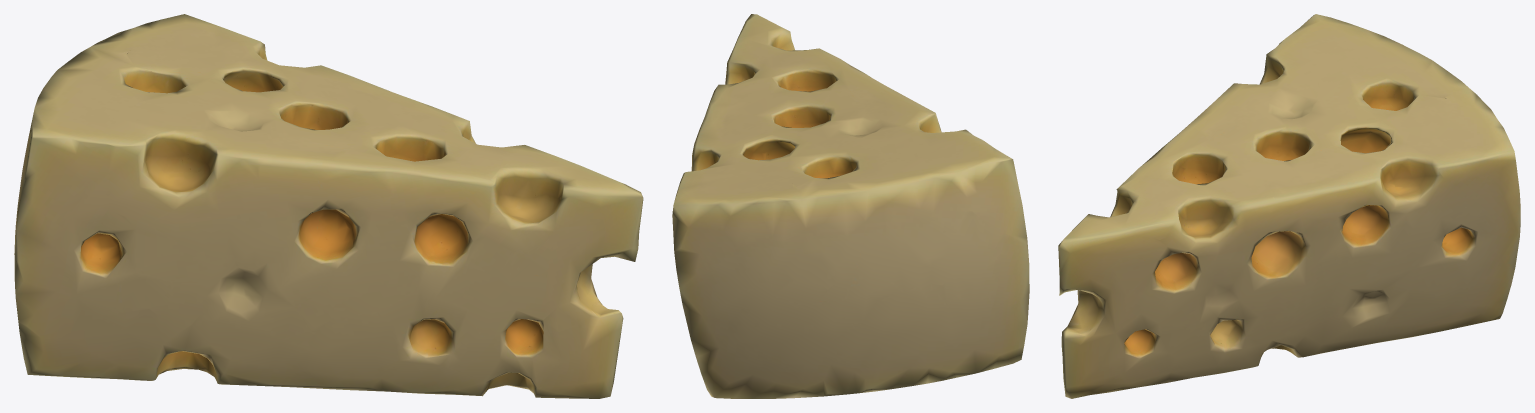
Rendered from tripo_convert_3d8f8f78-e6a6-4df1-aa93-ef33baefe525.fbx.
3 views of the same model, side by side, from view 1: azimuth 30°, elevation 25°; view 2: azimuth 150°, elevation 25°; view 3: azimuth 270°, elevation 25° (orthographic). The views are drawn at different scales.
Visible parts, largest first — view 1: tripo_node_3d8f8f78; view 2: tripo_node_3d8f8f78; view 3: tripo_node_3d8f8f78.
Boxes of the visible parts, left/top/right/bottom form: tripo_node_3d8f8f78: left=14, top=14, right=643, bottom=398; tripo_node_3d8f8f78: left=672, top=14, right=1029, bottom=398; tripo_node_3d8f8f78: left=1058, top=14, right=1520, bottom=398.
Bounding box in the file's own units: 0.9807 × 0.5094 × 1.
1 material, 1 textured.
